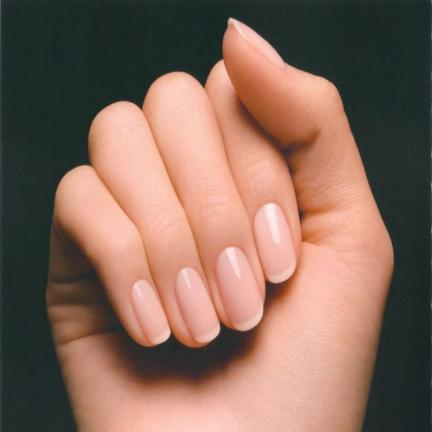Nail: (214, 246, 264, 331), (175, 268, 221, 343), (253, 203, 296, 283), (231, 18, 286, 70), (132, 279, 171, 345)
